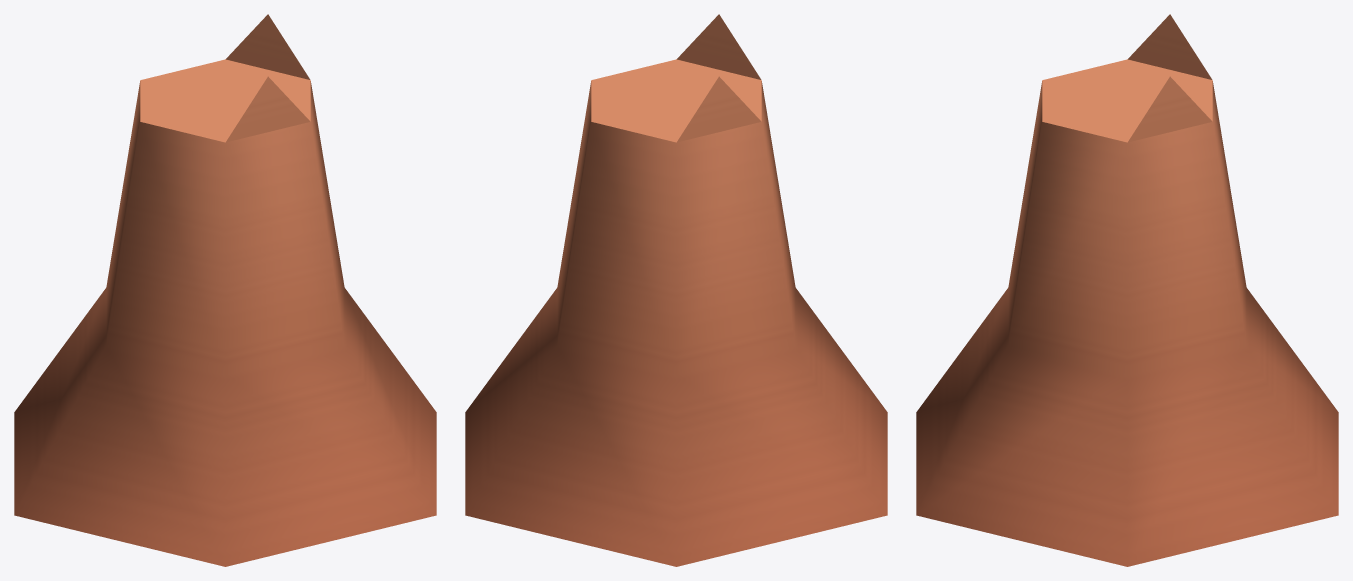
Rendered from tree-trunk.fbx.
3 views of the same model, side by side, from view 1: azimuth 30°, elevation 25°; view 2: azimuth 150°, elevation 25°; view 3: azimuth 270°, elevation 25° (orthographic).
Visible parts, largest first — view 1: tree-trunk; view 2: tree-trunk; view 3: tree-trunk.
Part boxes in pixels (<box>): tree-trunk: <box>14,14,436,566</box>; tree-trunk: <box>465,14,887,566</box>; tree-trunk: <box>916,14,1338,566</box>.
Bounding box in the file's own units: 0.396 × 0.3429 × 0.3751.
